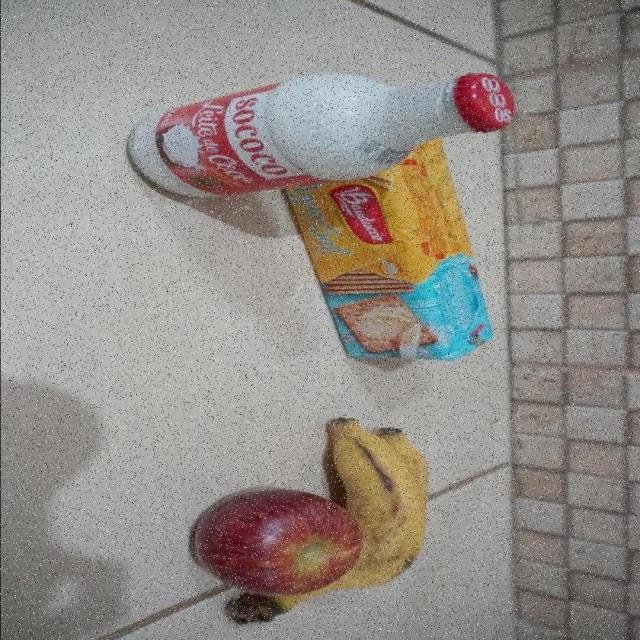Apple: (188, 488, 365, 597)
Banana: (328, 416, 429, 590)
CoconutMilk: (124, 70, 517, 198)
Cracker: (281, 140, 497, 364)
